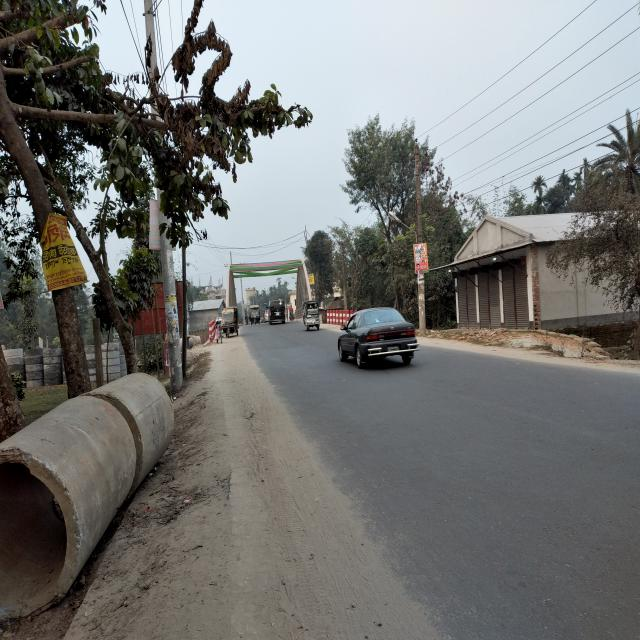black: (336, 307, 415, 367), (268, 300, 286, 322)
